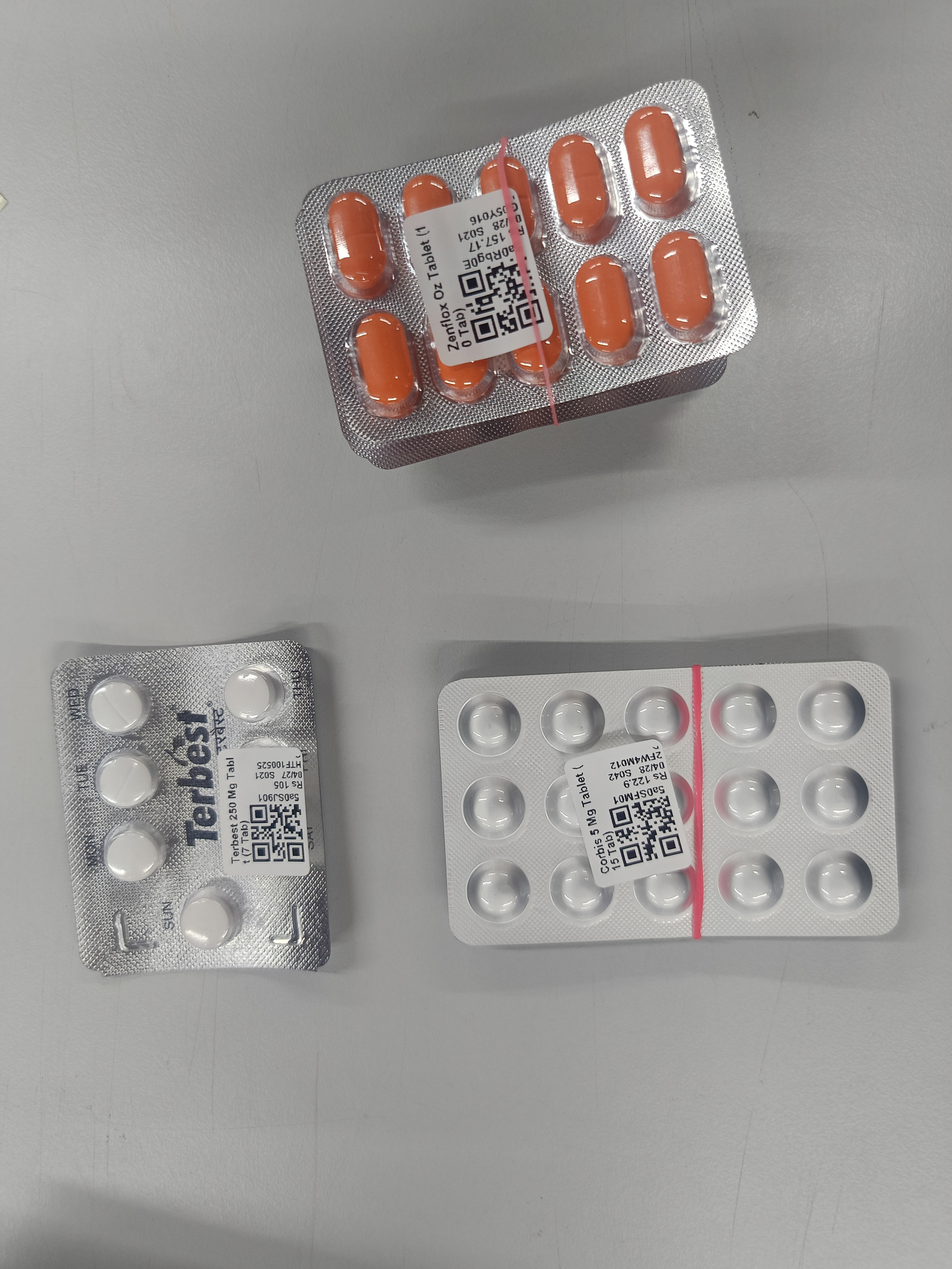qr_code: (458, 260, 536, 343), (608, 794, 683, 866), (250, 804, 305, 862)
